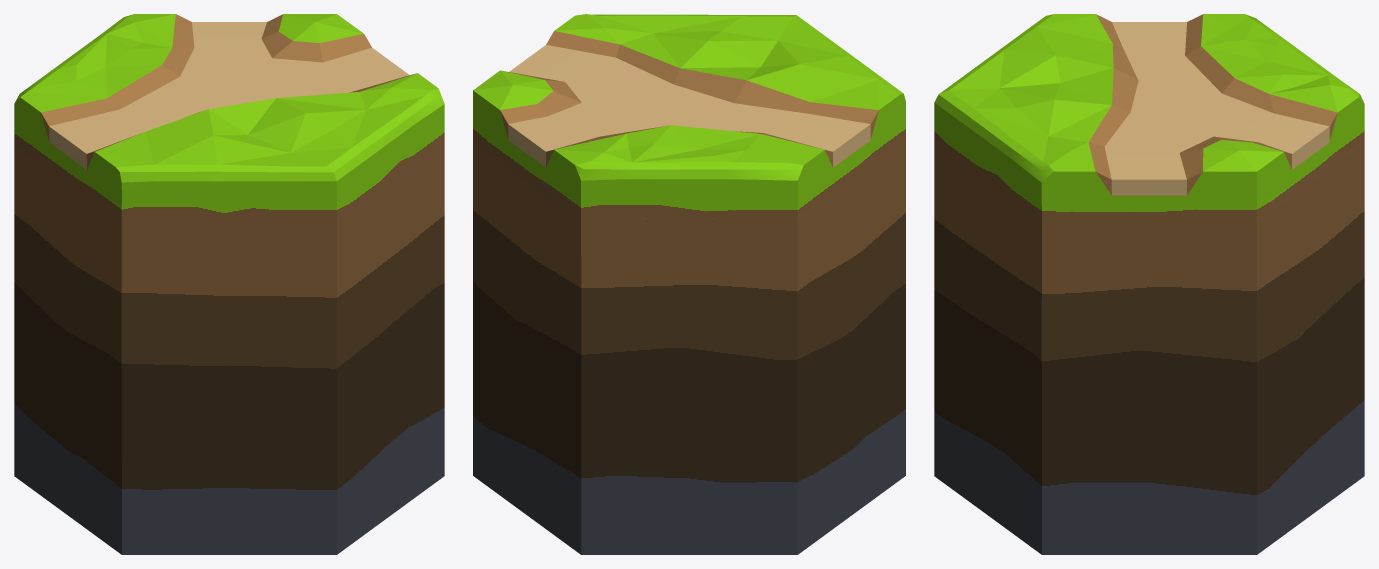
The model's file is HexTilePath_3Way_3.glb.
The picture shows the model from 3 angles, left to right: view 1: azimuth 30°, elevation 25°; view 2: azimuth 150°, elevation 25°; view 3: azimuth 270°, elevation 25°; orthographic projection.
Parts seen in each view (by area): view 1: HexTilePath_3Way_3; view 2: HexTilePath_3Way_3; view 3: HexTilePath_3Way_3.
Part boxes in pixels (<box>): HexTilePath_3Way_3: <box>14,14,444,554</box>; HexTilePath_3Way_3: <box>473,14,905,554</box>; HexTilePath_3Way_3: <box>934,14,1364,554</box>.
Size of the model in its own units: 1.73 by 2 by 2.
1 material, 1 textured.
